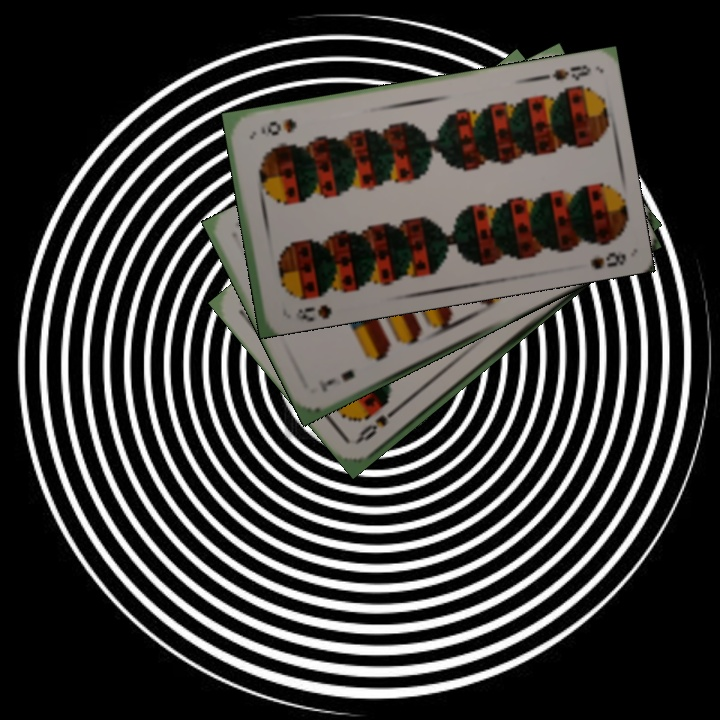E7: (315, 365, 357, 394)
S8: (534, 61, 594, 84), (291, 300, 335, 322)
SO: (353, 401, 403, 445)
